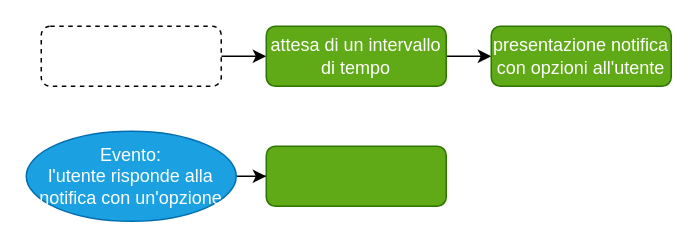
Some shapes in this 698 by 248 pixel diagram are drawn without their labels. The centre of each missing label's shape, as x and y in pixels:
caricamento tipo scelto nel database: the point at 355,175
raccolta dati: the point at 130,55
